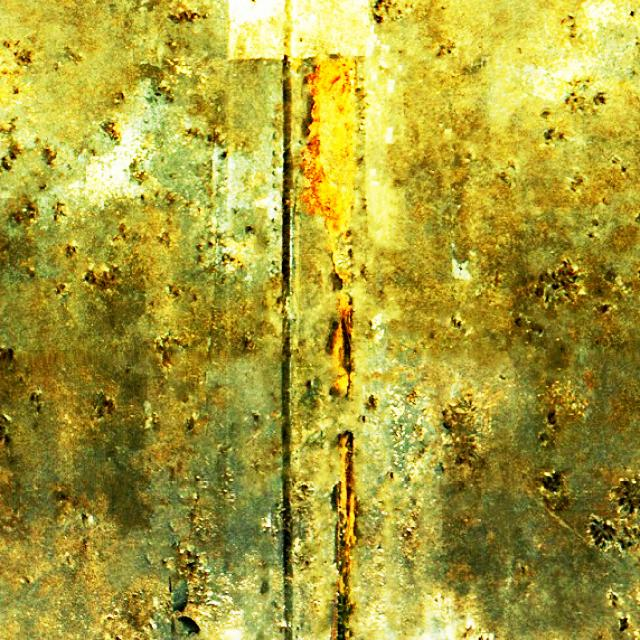Corrosion: (300, 58, 359, 282), (338, 433, 360, 606), (331, 292, 354, 393)
